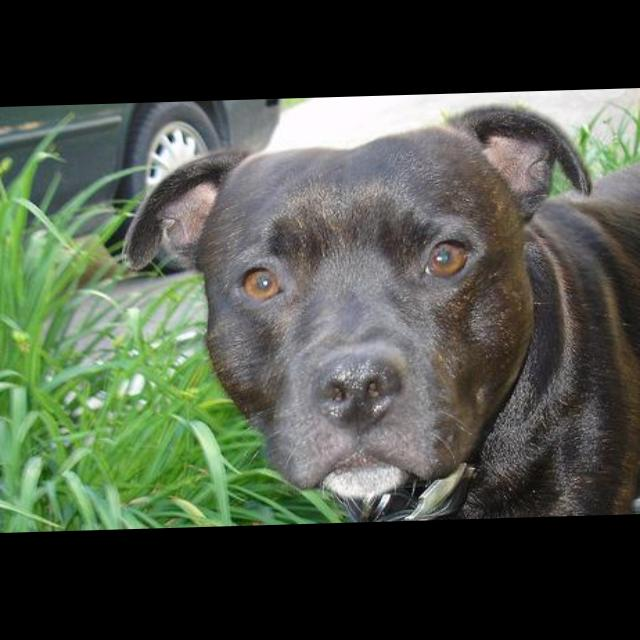amstaff: (121, 103, 640, 531)
